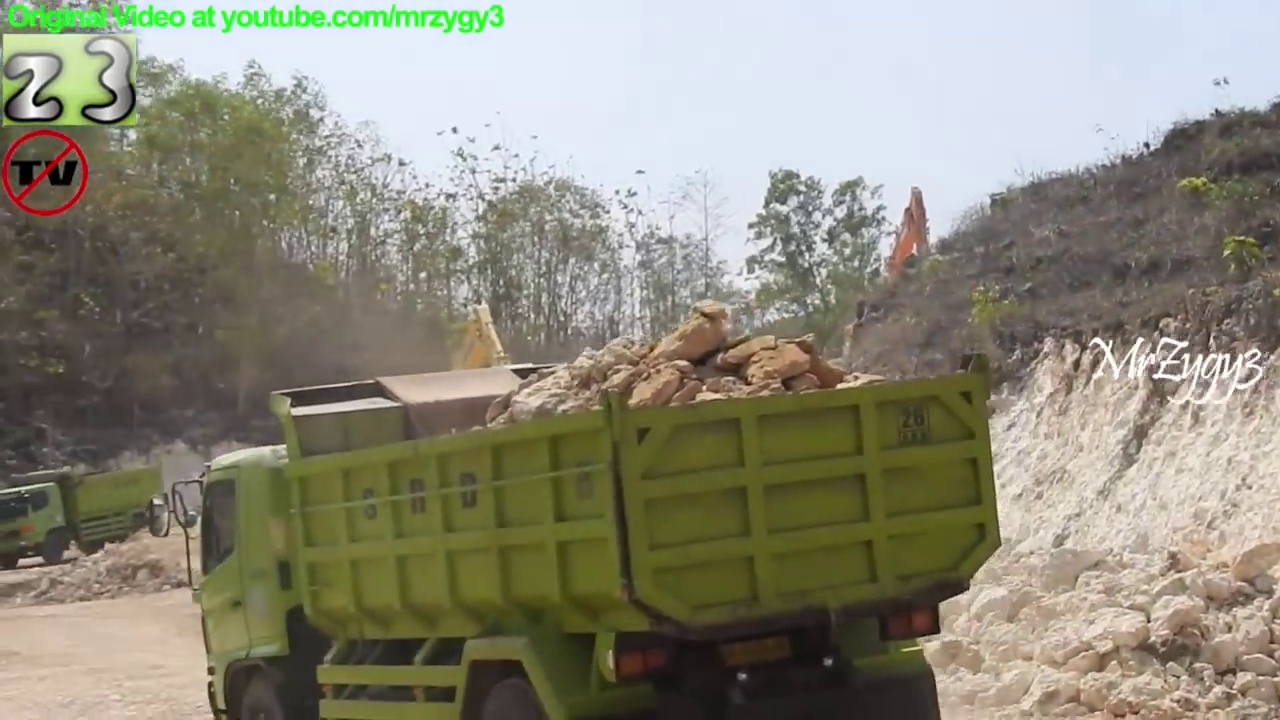excavator: (865, 185, 961, 328)
truck: (143, 345, 1008, 720), (1, 461, 170, 574)
